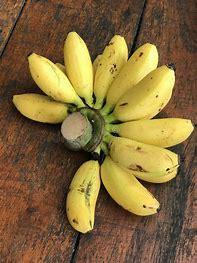banana: (5, 27, 190, 235), (102, 58, 173, 121), (90, 162, 160, 224), (93, 136, 173, 176), (82, 38, 130, 103), (111, 116, 197, 149), (64, 158, 102, 232), (16, 88, 64, 125)
